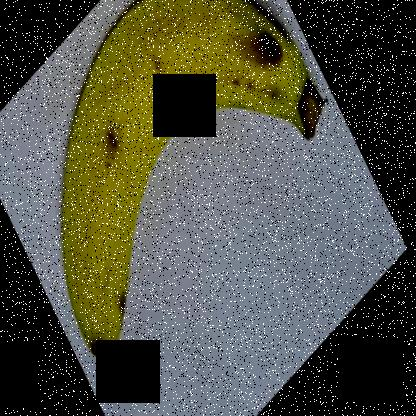freshripe: (41, 1, 331, 374)
